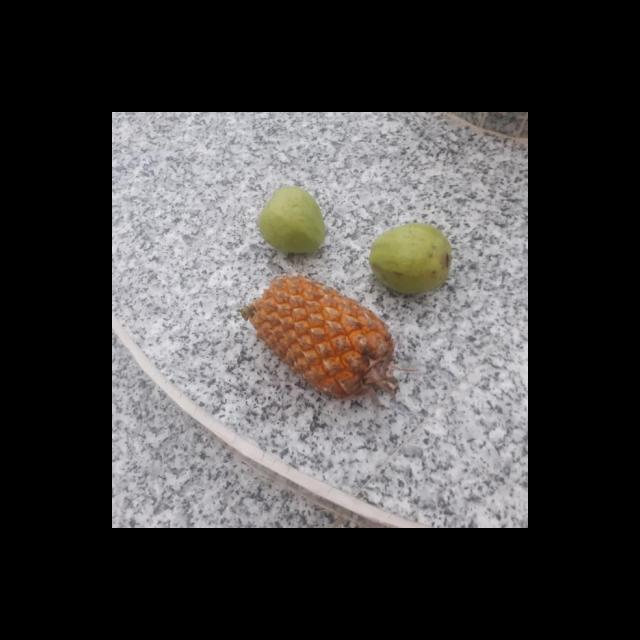guava: (364, 222, 452, 294), (255, 187, 327, 256)
pineapple: (242, 272, 404, 400)
